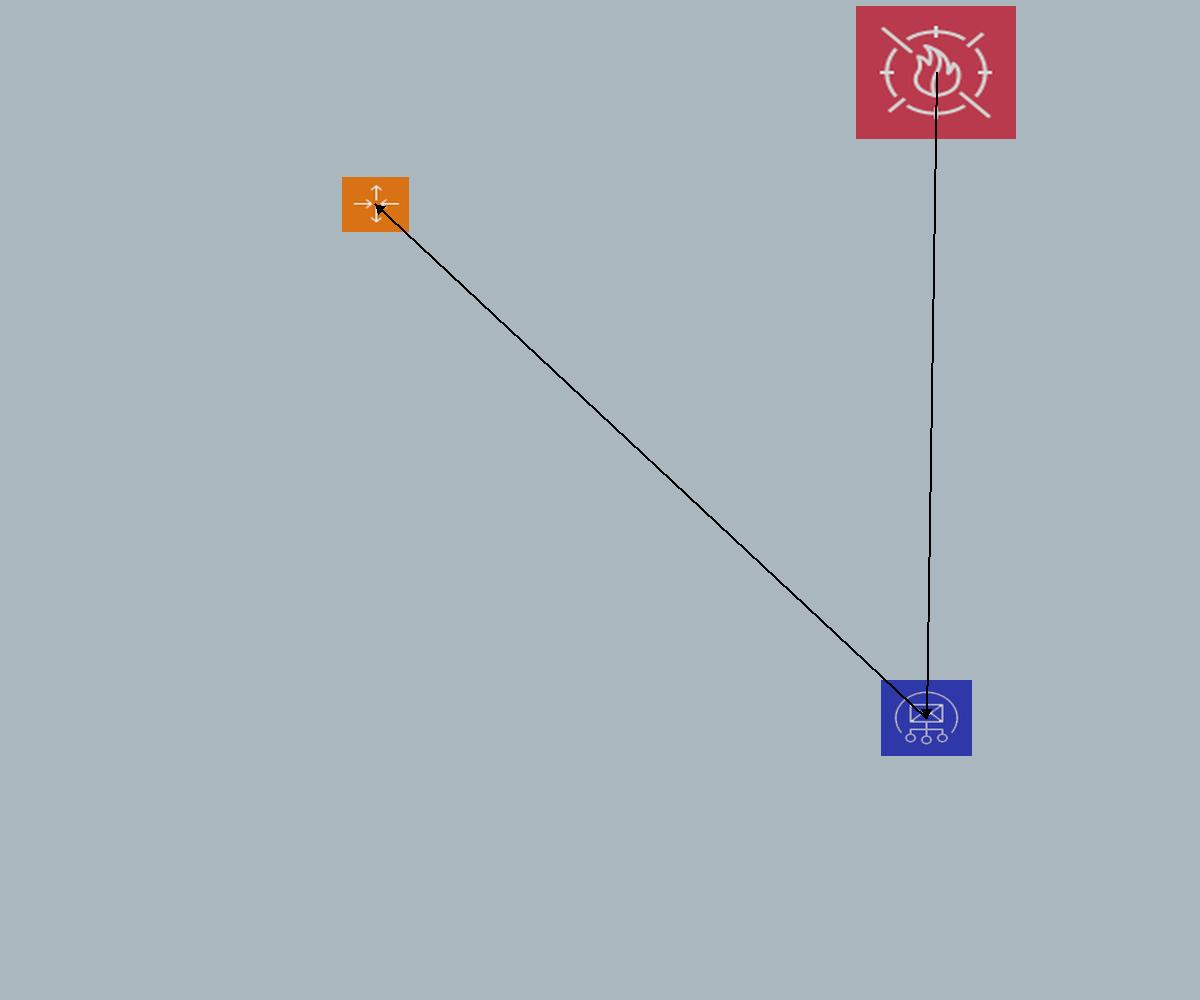AWS-Scaling-group: (342, 177, 409, 232)
AWS-Simple-Email-Service: (881, 680, 972, 756)
AWS-WAF: (856, 6, 1016, 139)
